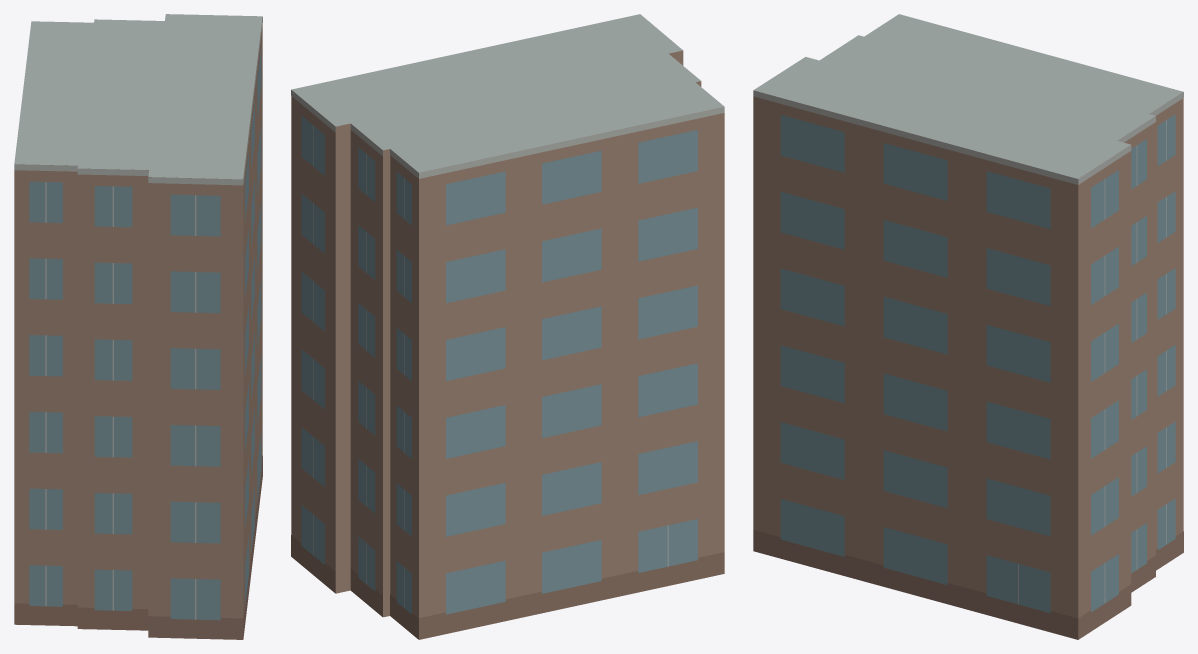
File: survey-upis-32667221.glb
3 views of the same model, side by side, from view 1: azimuth 30°, elevation 25°; view 2: azimuth 150°, elevation 25°; view 3: azimuth 270°, elevation 25° (orthographic).
Parts seen in each view (by area): view 1: survey-upis-32667221.tmp; view 2: survey-upis-32667221.tmp; view 3: survey-upis-32667221.tmp.
Part boxes in pixels (bbox=[...]): survey-upis-32667221.tmp: bbox=[14, 14, 262, 639]; survey-upis-32667221.tmp: bbox=[291, 14, 724, 639]; survey-upis-32667221.tmp: bbox=[753, 14, 1183, 639].
Bounding box in the file's own units: 14.37 × 18.7 × 15.84.
